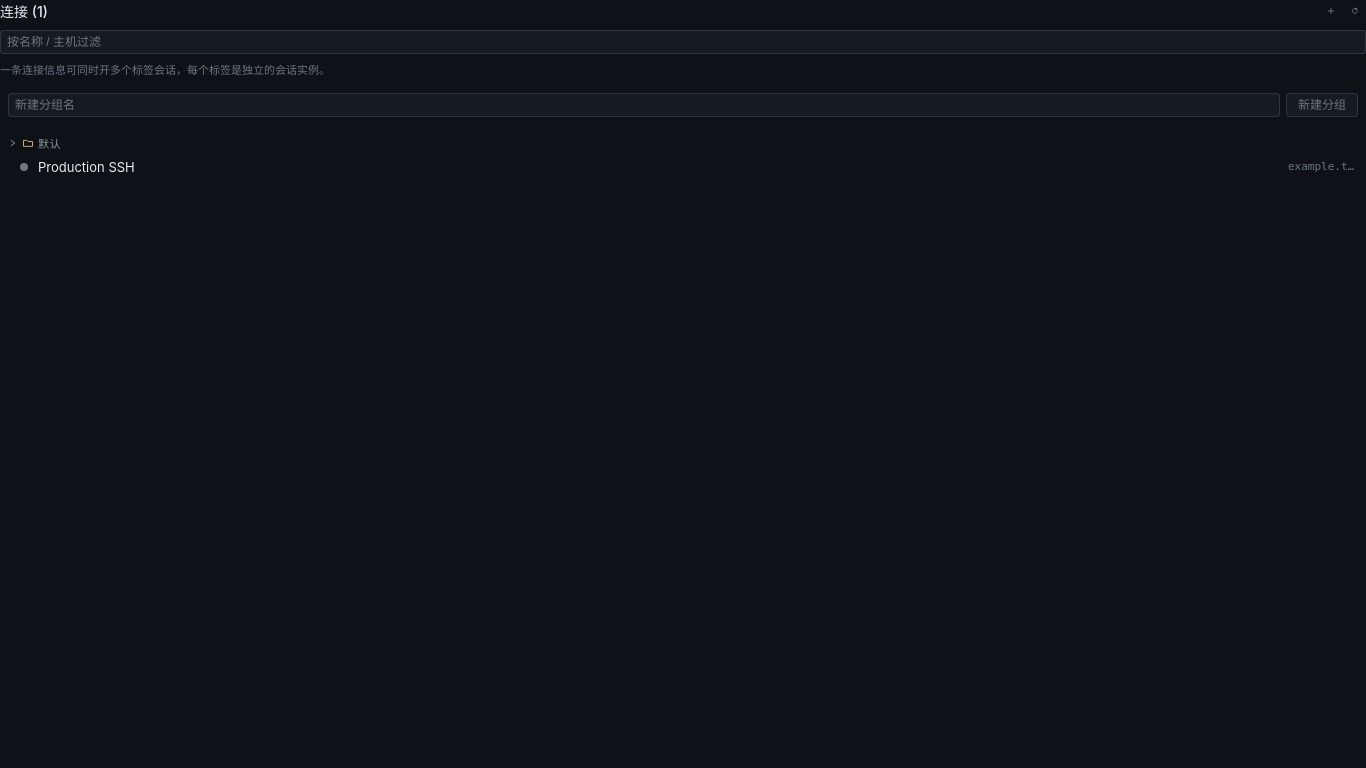
Test: SessionList 右键菜单关闭 › 点击「更新凭据」后菜单从文档中消失
Right-click the list item with class "leaf": (86, 166) x1=12 y1=154 x2=1365 y2=178
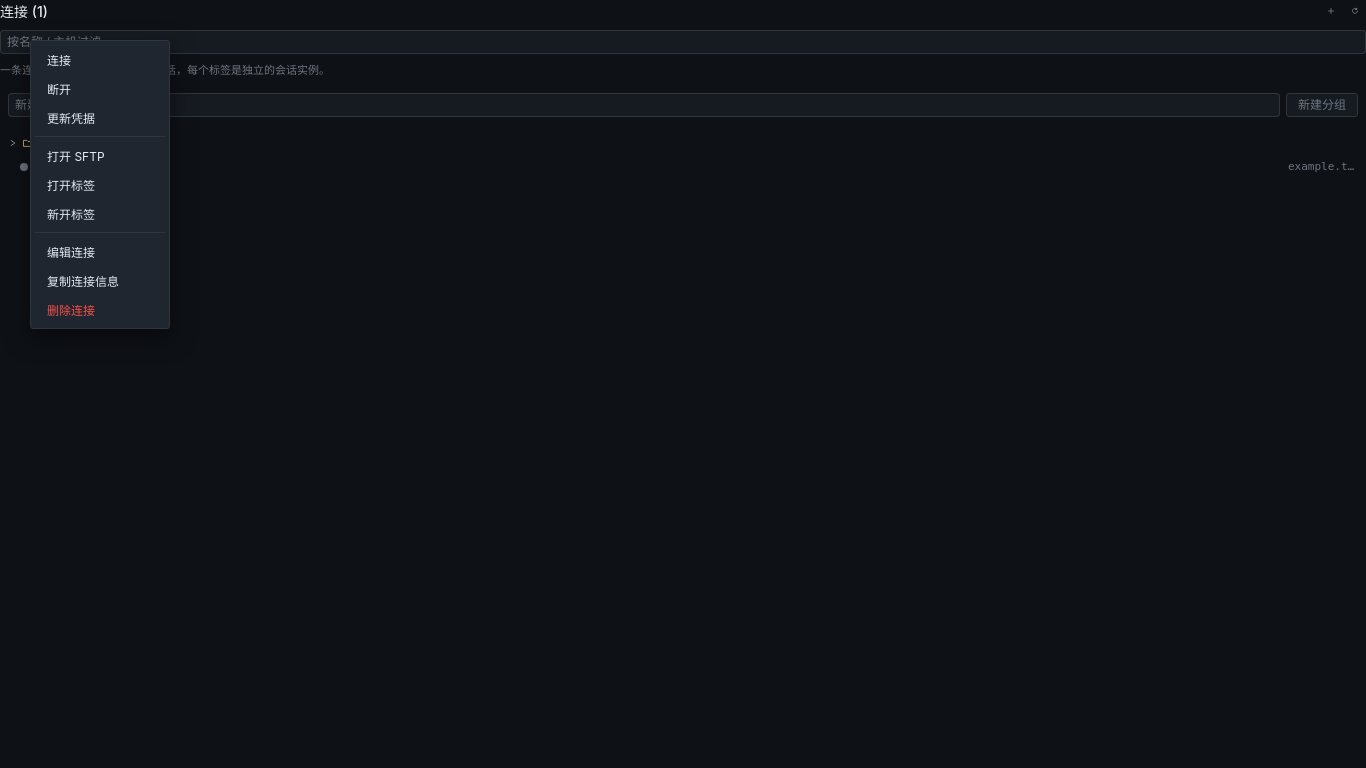
Expected: the element with class "ctx-menu" is shown, x1=30 y1=40 x2=170 y2=329
Expected: the button "更新凭据" is shown
Click the button "更新凭据": (100, 118) x1=35 y1=103 x2=165 y2=132
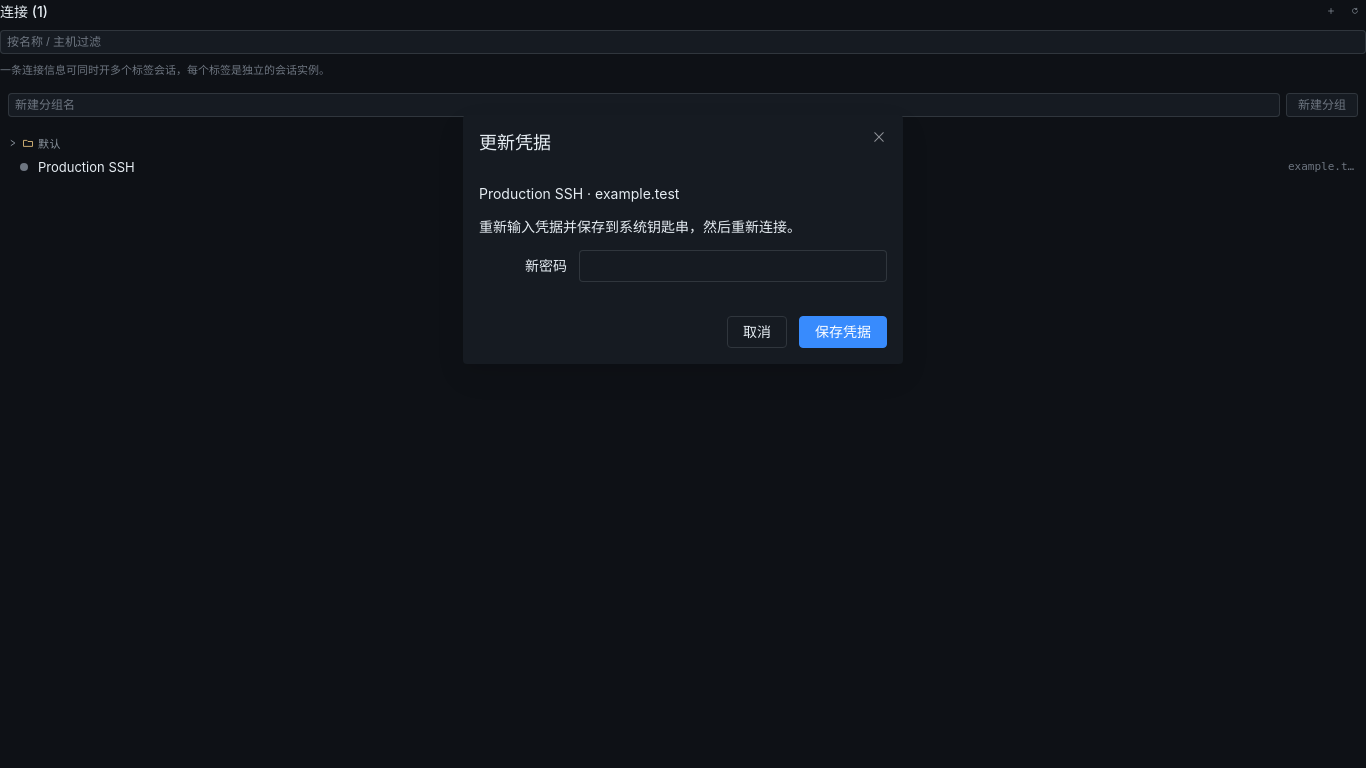
Expected: the element with class "ctx-menu" is gone
